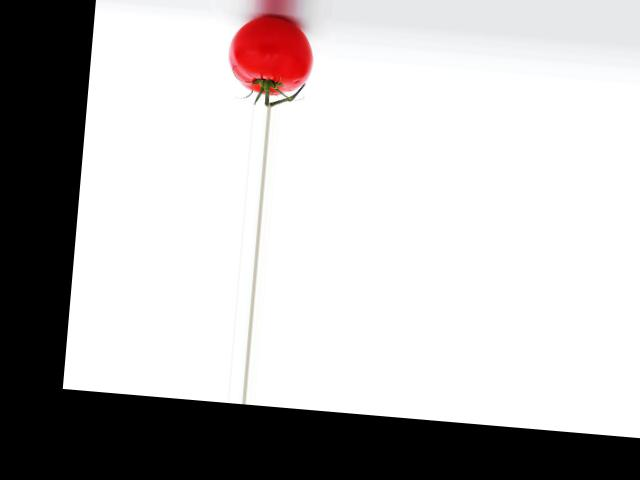tomato: (224, 12, 315, 97)
